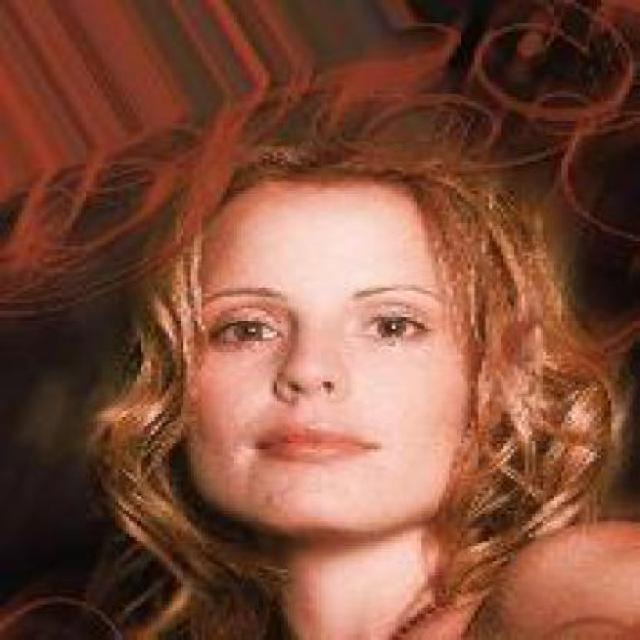closed-mouth: (250, 426, 387, 464)
